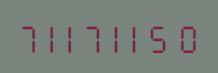five: (155, 20, 177, 53)
one: (40, 20, 62, 53), (63, 20, 85, 53), (109, 20, 131, 53), (132, 20, 154, 53)
seven: (17, 20, 39, 53), (86, 20, 108, 53)
zero: (178, 20, 200, 53)
